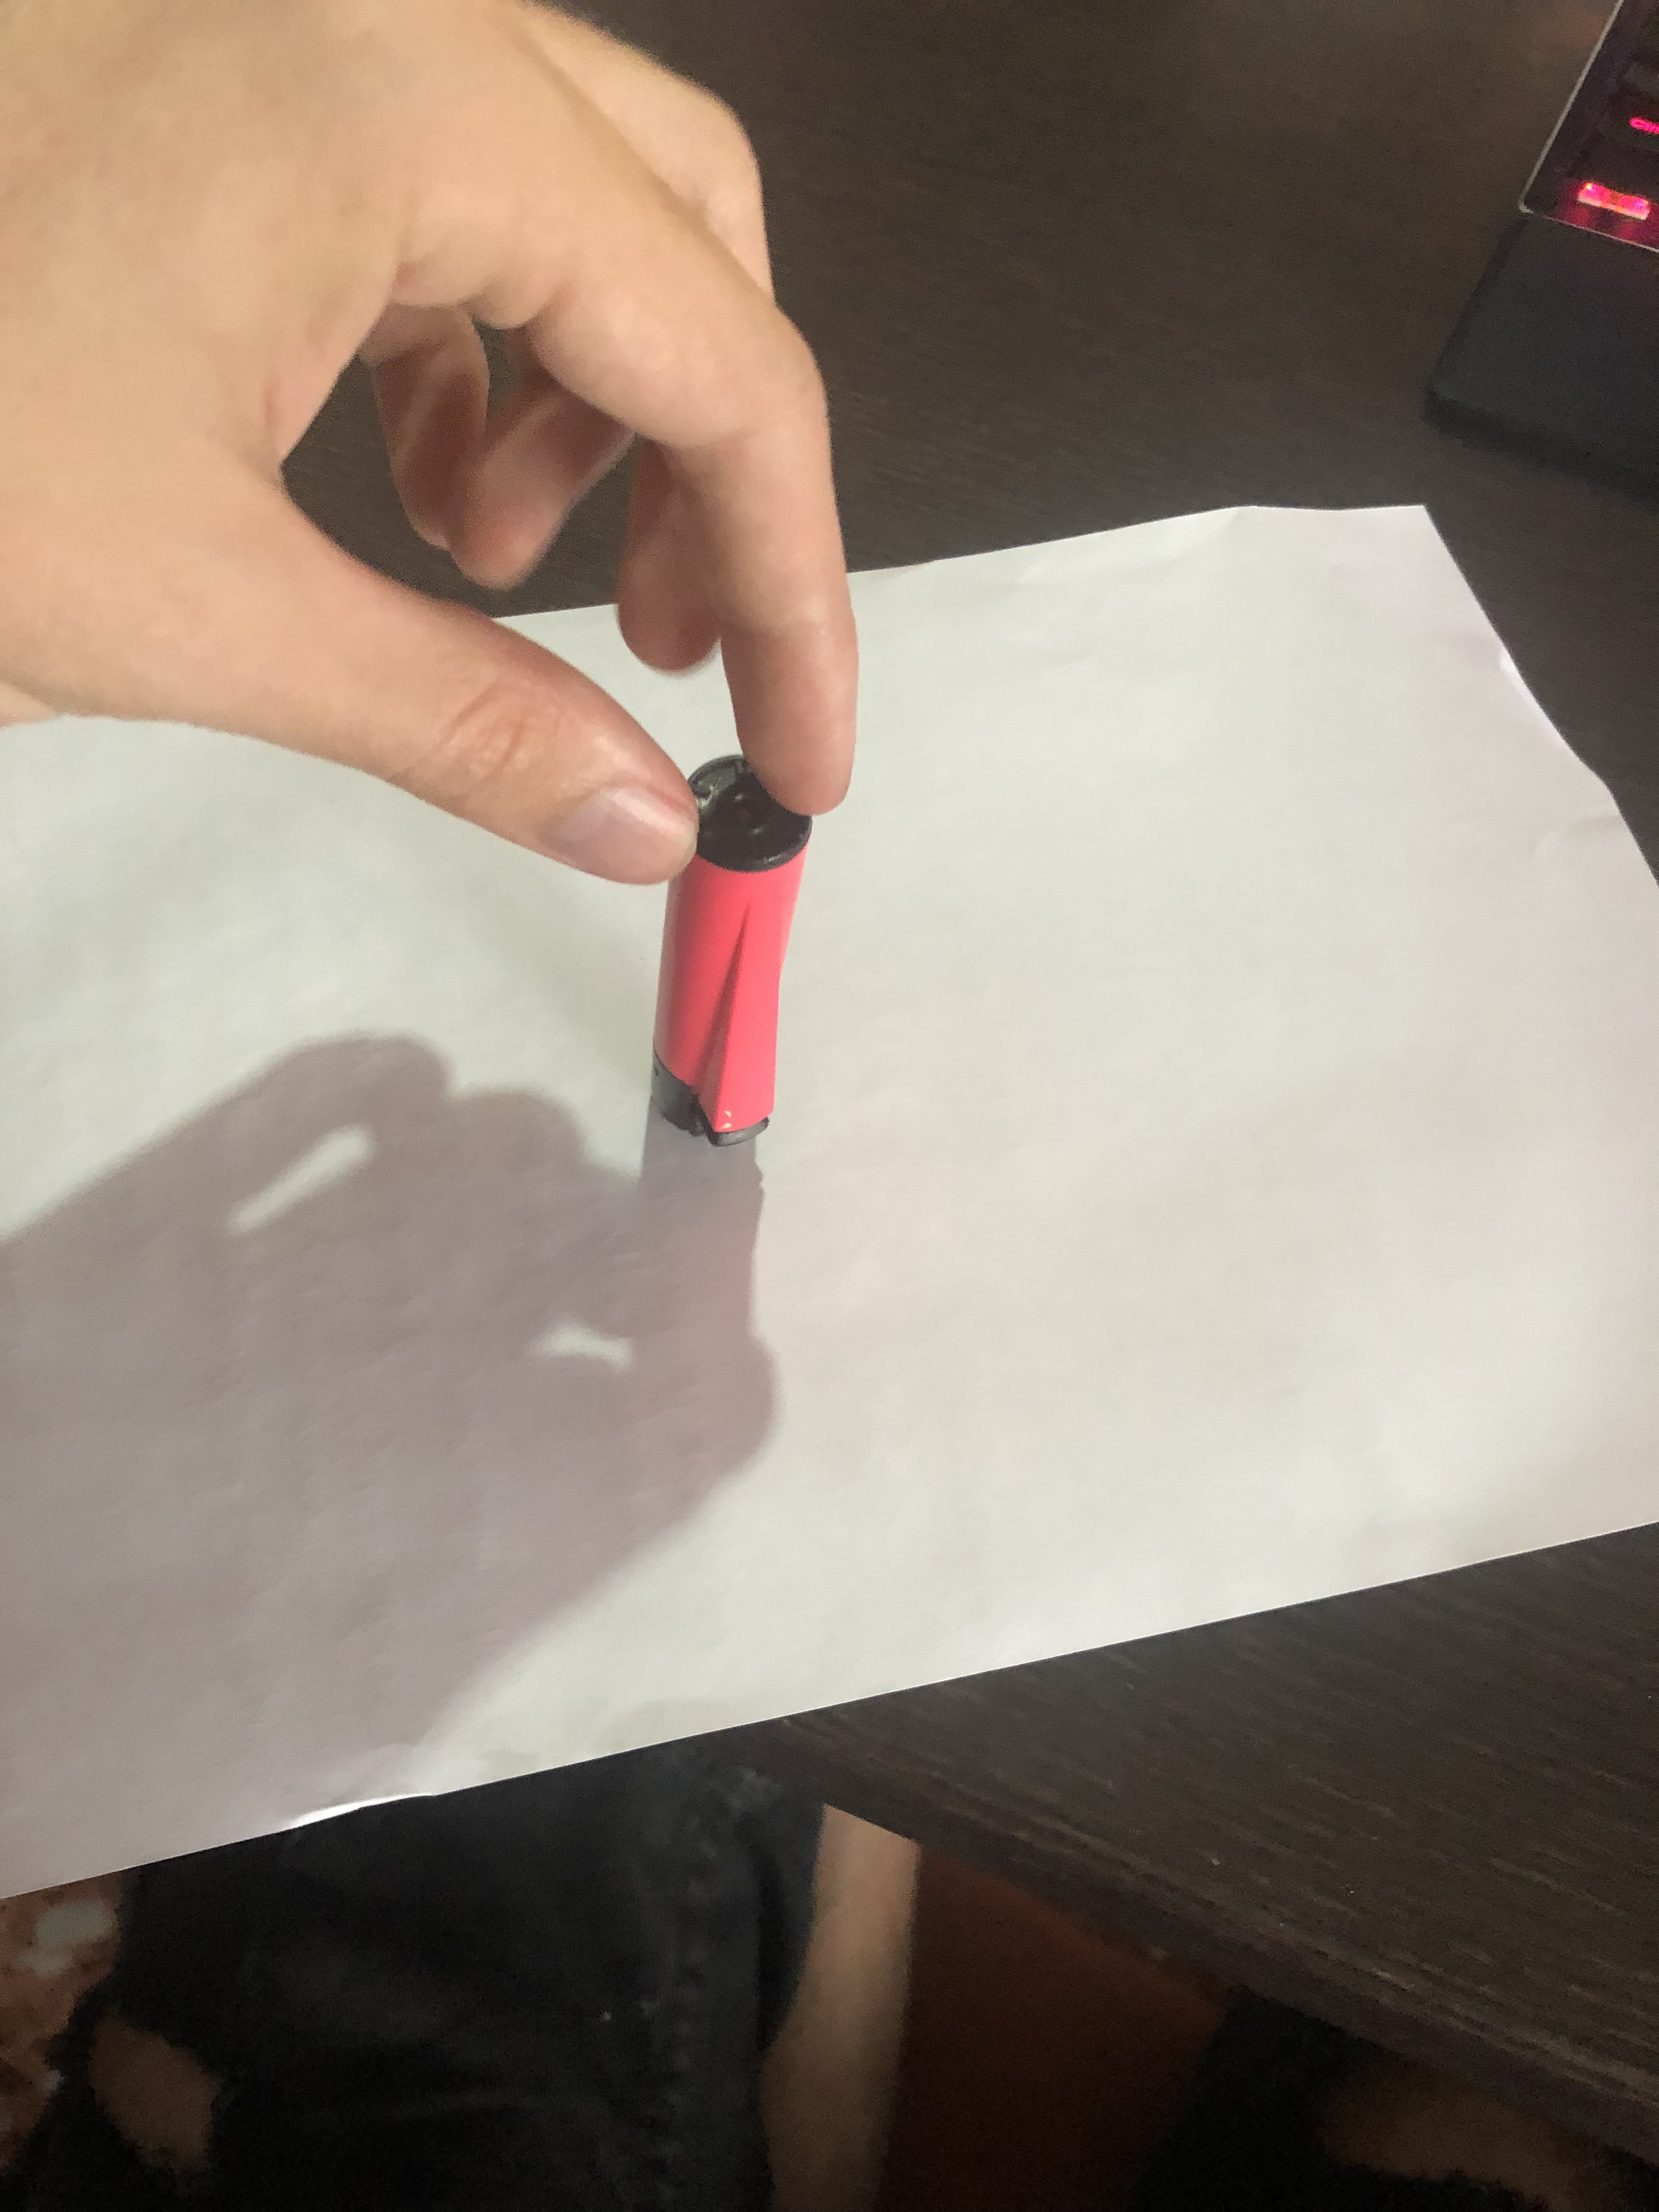Mechero: (638, 756, 833, 1155)
